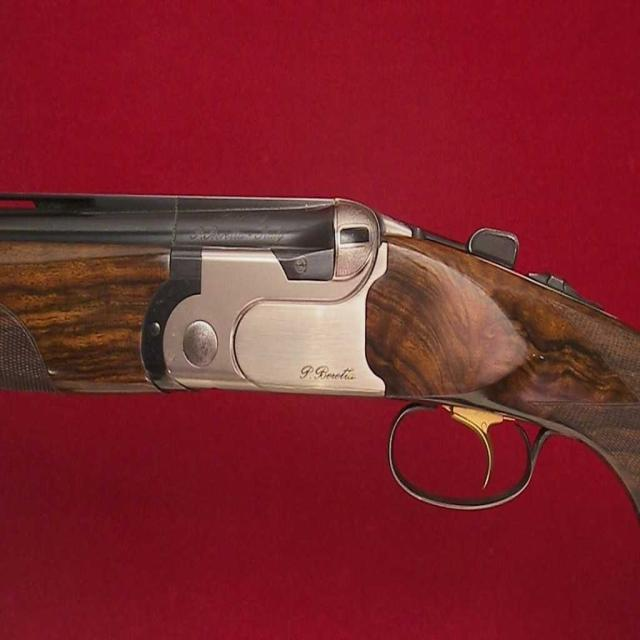heavyweapon: (1, 134, 620, 538)
